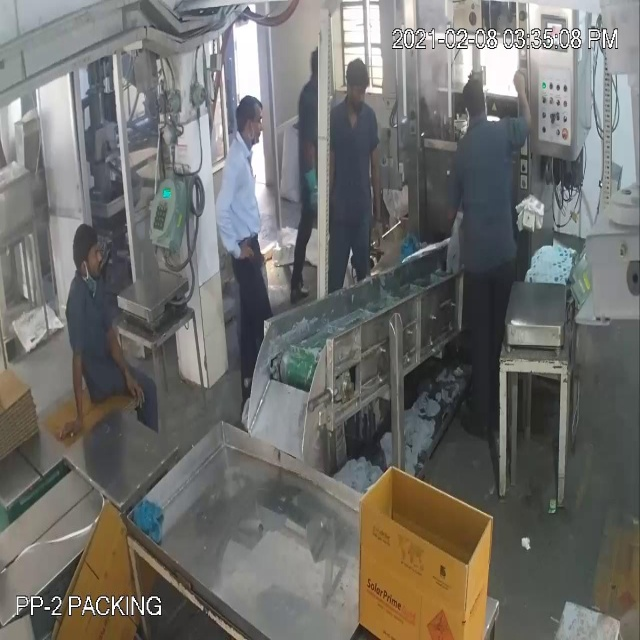Guantes: (300, 139, 327, 218)
Sin_guantes: (98, 307, 151, 420), (54, 324, 93, 456), (219, 155, 255, 274), (366, 134, 388, 245), (507, 68, 535, 150)
